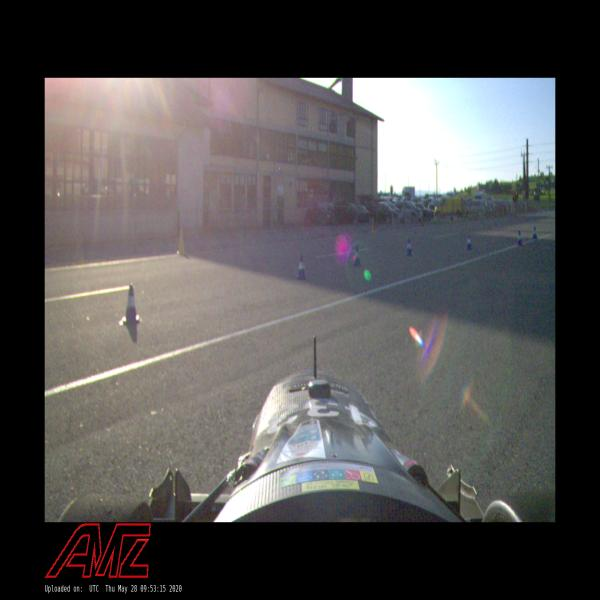blue_cone: (120, 283, 142, 328), (296, 256, 308, 281), (352, 246, 361, 268), (404, 238, 413, 258), (465, 234, 472, 252), (517, 231, 523, 247), (532, 226, 538, 241)
yellow_cone: (176, 227, 186, 256), (370, 218, 376, 234)
